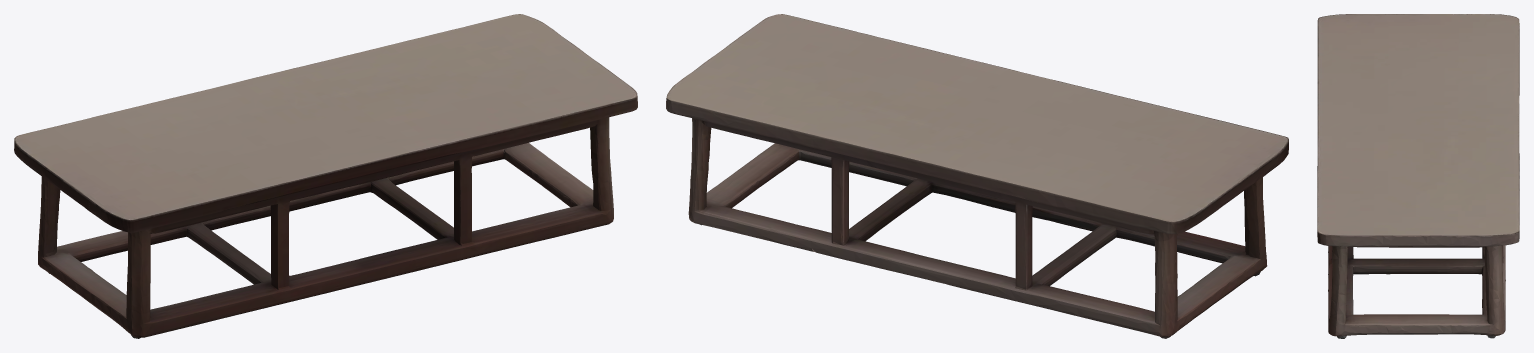
Rendered from ast_b7f81d8b8dcd.glb.
3 views of the same model, side by side, from view 1: azimuth 30°, elevation 25°; view 2: azimuth 150°, elevation 25°; view 3: azimuth 270°, elevation 25° (orthographic). The views are drawn at different scales.
Parts seen in each view (by area): view 1: geometry_0; view 2: geometry_0; view 3: geometry_0.
Part boxes in pixels (bbox=[...]): geometry_0: bbox=[14, 14, 637, 338]; geometry_0: bbox=[666, 14, 1288, 338]; geometry_0: bbox=[1317, 14, 1519, 338].
Size of the model in its own units: 1 by 0.2418 by 0.3862.
1 material, 1 textured.
